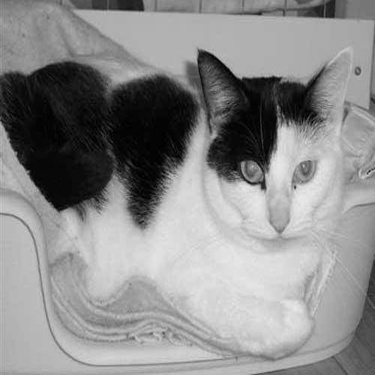cat: (1, 44, 350, 360)
